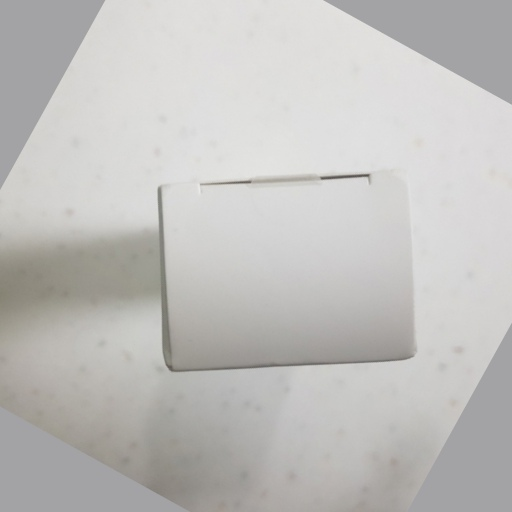Paper_0: (151, 169, 429, 381)
